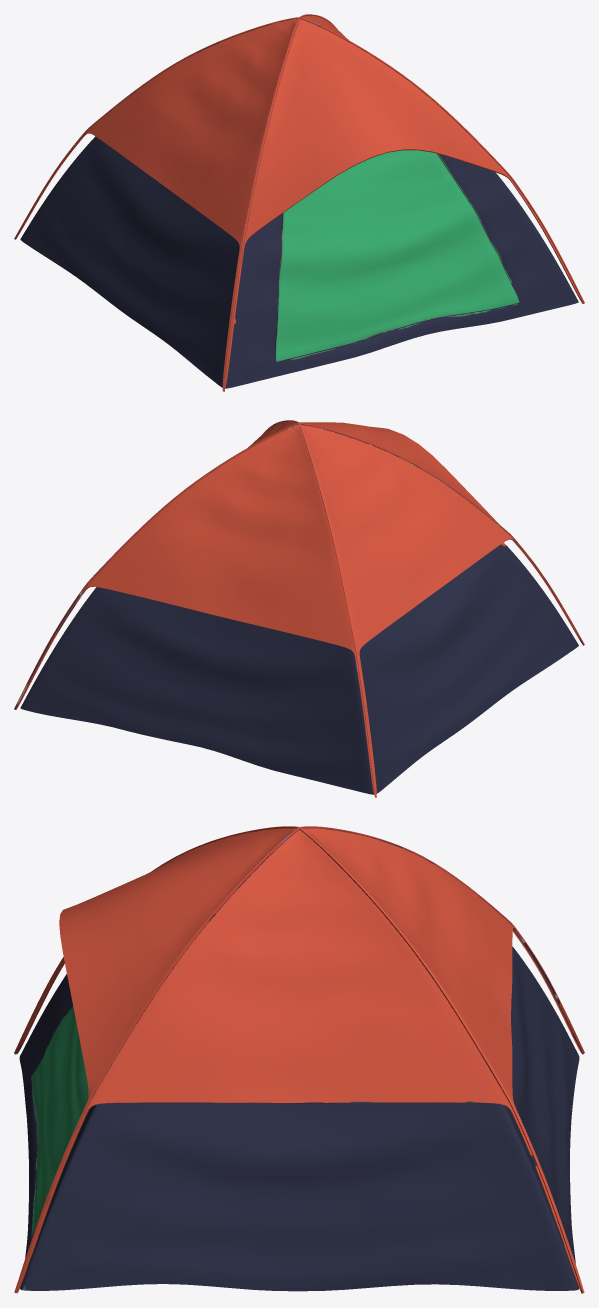
Rendered from casa_camp.obj.
3 renders of one model, top to bottom at view 1: azimuth 30°, elevation 25°; view 2: azimuth 150°, elevation 25°; view 3: azimuth 270°, elevation 25°, orthographic. The views are drawn at different scales.
Parts seen in each view (by area): view 1: Tent; view 2: Tent; view 3: Tent.
Boxes of the visible parts, left/top/right/bottom form: Tent: left=14, top=14, right=584, bottom=391; Tent: left=14, top=420, right=584, bottom=797; Tent: left=14, top=826, right=584, bottom=1293.
Size of the model in its own units: 1.76 by 1.19 by 1.76.
Materials: 1 (1 with a texture image).
